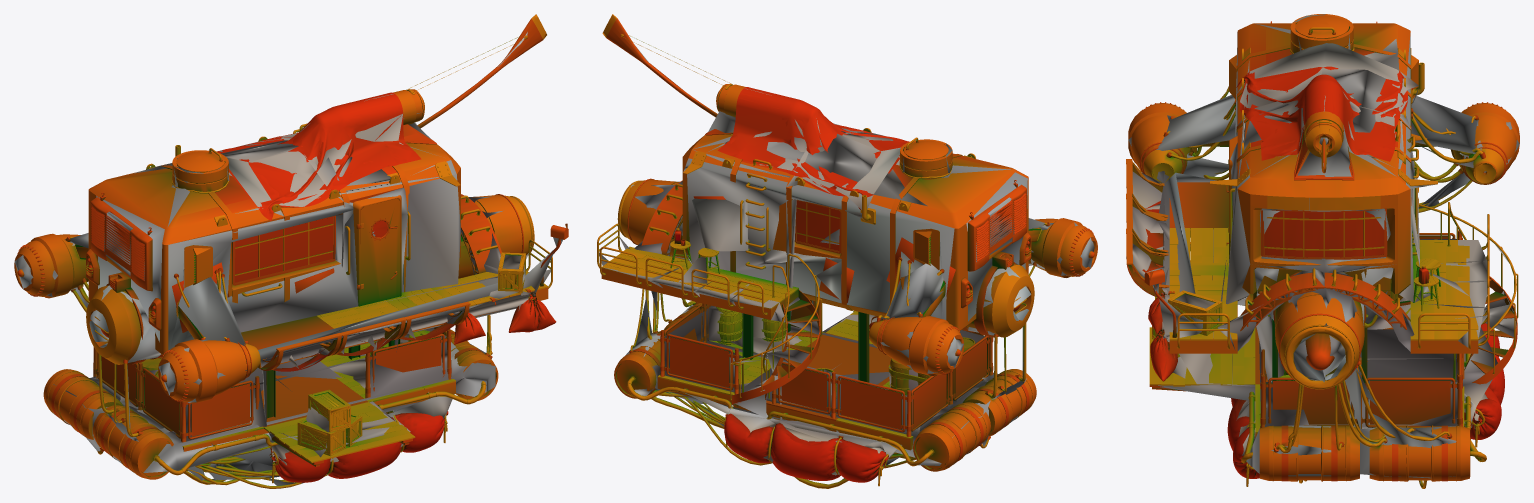
The model's file is KB3D_CSK_BldgSmNomadsHouse_A.glb.
3 views of the same model, side by side, from view 1: azimuth 30°, elevation 25°; view 2: azimuth 150°, elevation 25°; view 3: azimuth 270°, elevation 25° (orthographic). The views are drawn at different scales.
Parts seen in each view (by area): view 1: L0, L2, L1; view 2: L0, L2, L1; view 3: L0, L2, L1.
Boxes of the visible parts, bbox=[...] form: L0: bbox=[14, 14, 568, 488]; L2: bbox=[14, 32, 562, 485]; L1: bbox=[14, 17, 568, 487]; L0: bbox=[597, 14, 1097, 488]; L2: bbox=[599, 44, 1094, 479]; L1: bbox=[598, 15, 1097, 488]; L0: bbox=[1126, 14, 1519, 488]; L2: bbox=[1128, 14, 1519, 483]; L1: bbox=[1126, 14, 1518, 488].
Size of the model in its own units: 10.24 by 8.85 by 6.82.
